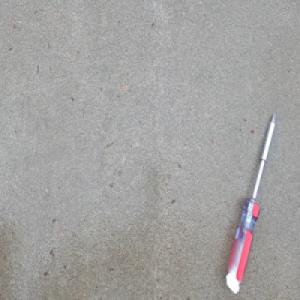Screwdriver: (224, 110, 277, 295)
